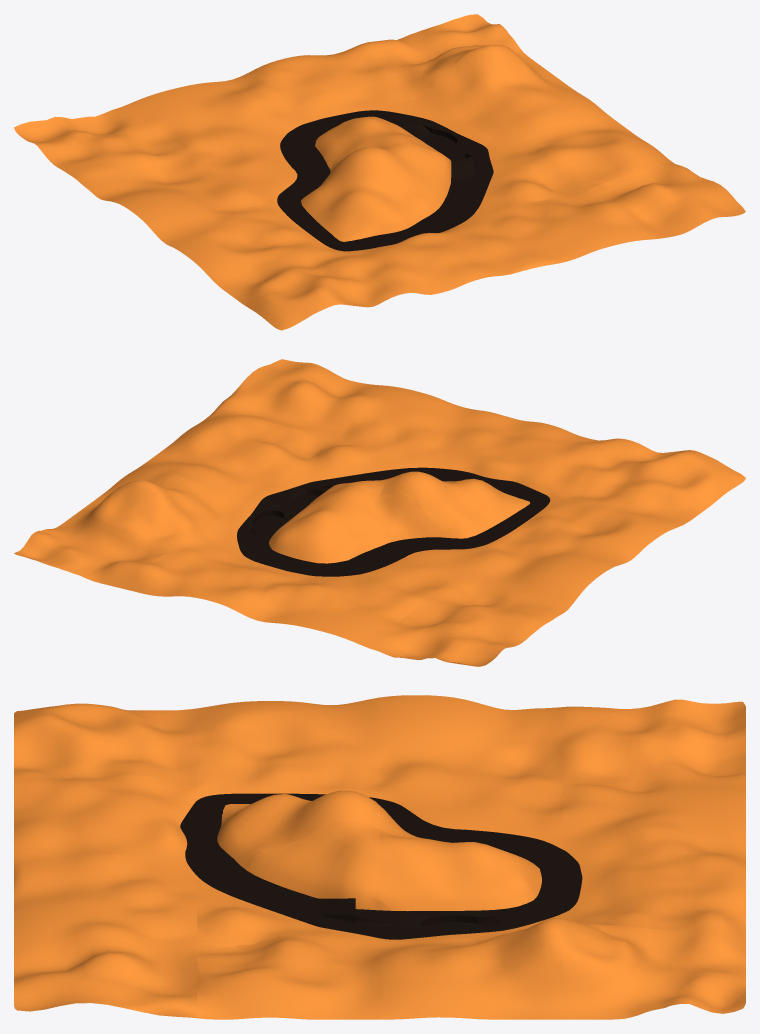
Rendered from DesertTrack.FBX.
The picture shows the model from 3 angles, top to bottom: view 1: azimuth 30°, elevation 25°; view 2: azimuth 150°, elevation 25°; view 3: azimuth 270°, elevation 25°; orthographic projection. The views are drawn at different scales.
Parts seen in each view (by area): view 1: Desert, TrackPart1, TrackPart2, TrackPart3, TrackPart4, Ramp; view 2: Desert, TrackPart1, TrackPart2, TrackPart4, TrackPart3; view 3: Desert, TrackPart1, TrackPart2, TrackPart3, TrackPart4, Ramp.
Boxes of the visible parts, x1,y1,x2,y2 form: Desert: [14, 14, 745, 330]; TrackPart1: [277, 123, 449, 251]; TrackPart2: [431, 146, 493, 228]; TrackPart3: [397, 117, 483, 155]; TrackPart4: [306, 110, 416, 134]; Ramp: [451, 152, 476, 183]; Desert: [14, 359, 745, 666]; TrackPart1: [306, 469, 550, 576]; TrackPart2: [263, 467, 449, 508]; TrackPart4: [237, 537, 321, 574]; TrackPart3: [237, 499, 303, 541]; Desert: [14, 695, 745, 1019]; TrackPart1: [180, 793, 579, 866]; TrackPart2: [190, 866, 398, 939]; TrackPart3: [392, 907, 522, 939]; TrackPart4: [512, 866, 582, 926]; Ramp: [313, 898, 391, 925].
Bounding box in the file's own units: 61850 × 6251 × 61851.
